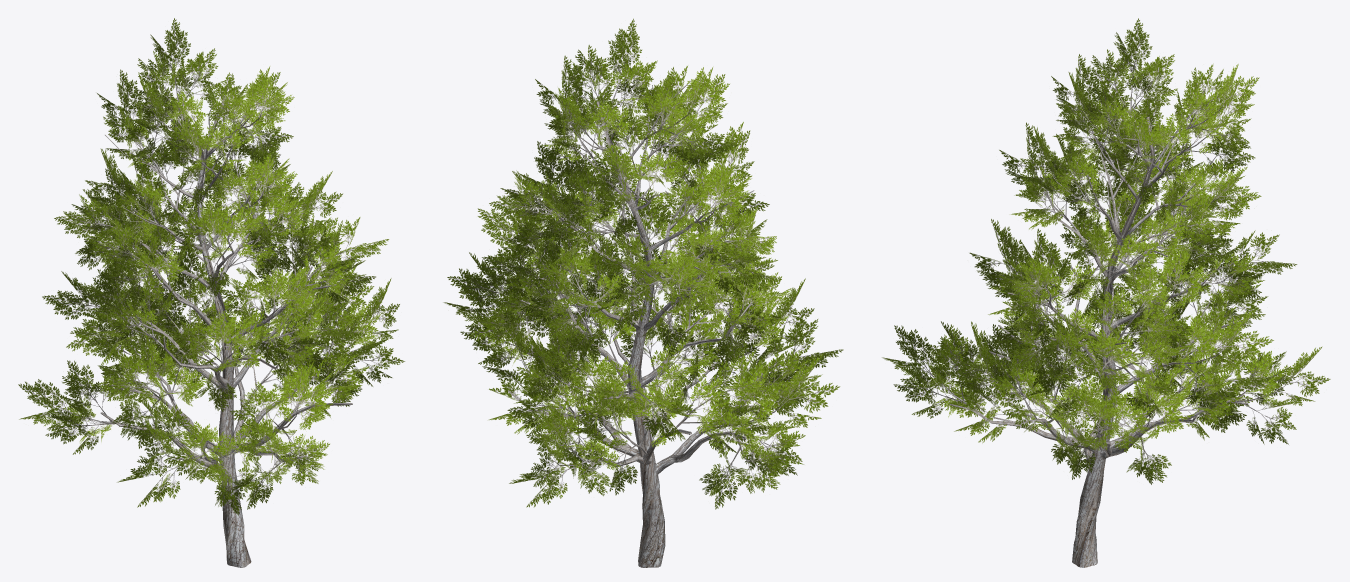
File: tree_v2.glb
3 views of the same model, side by side, from view 1: azimuth 30°, elevation 25°; view 2: azimuth 150°, elevation 25°; view 3: azimuth 270°, elevation 25° (orthographic). The views are drawn at different scales.
Visible parts, largest first — view 1: Beech_01; view 2: Beech_01; view 3: Beech_01.
Part boxes in pixels (box(x1,y1,x2,y2)): Beech_01: box(18, 18, 404, 567); Beech_01: box(443, 18, 843, 567); Beech_01: box(882, 18, 1330, 567).
Size of the model in its own units: 17.79 by 23.96 by 19.52.
Materials: 2 (2 with a texture image).
